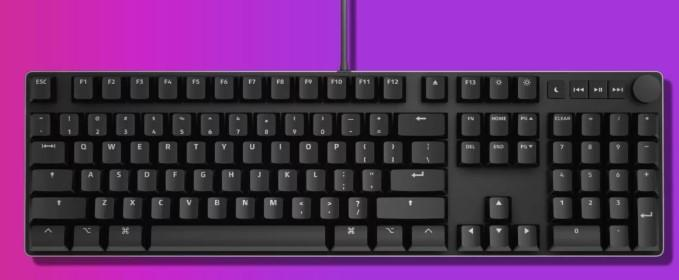Keyboard: (25, 73, 666, 256)
